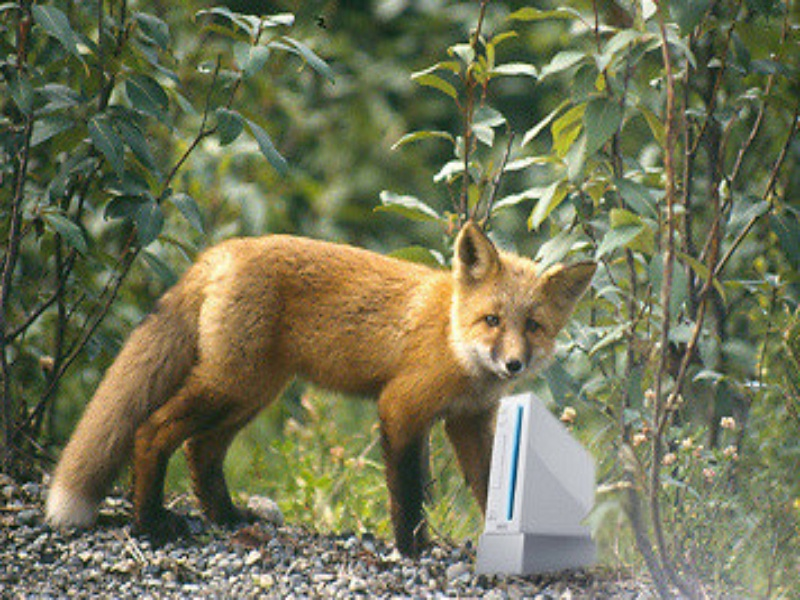fox: (49, 219, 607, 566)
